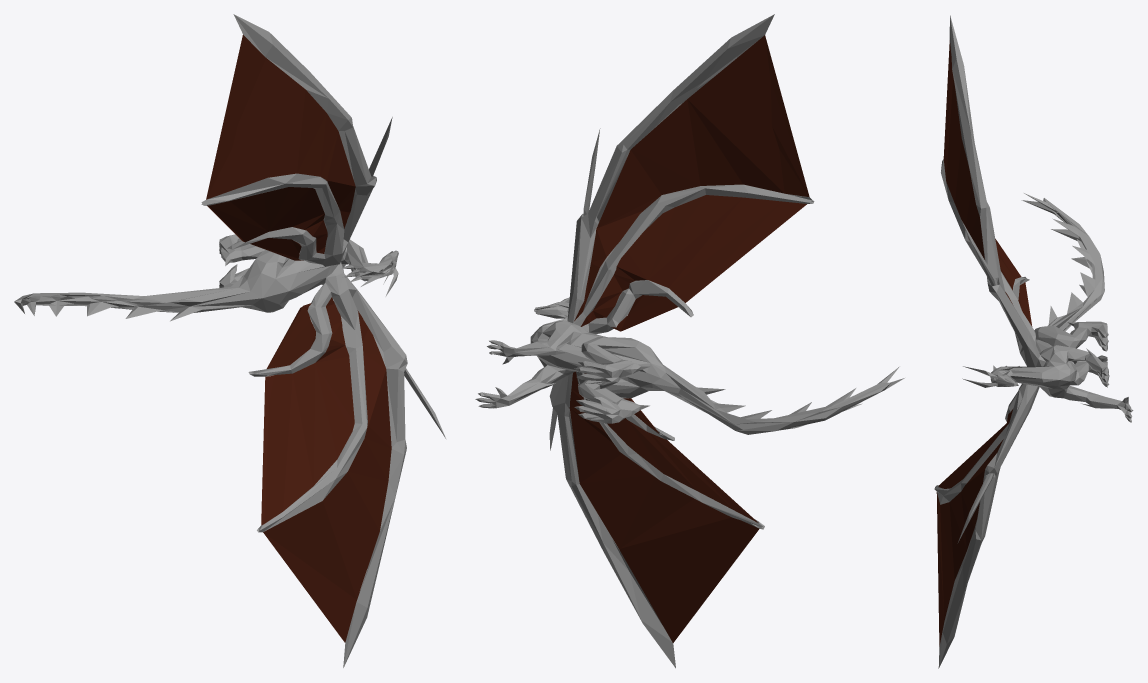
Rendered from Dragon_2.5_For_Animations_000372.obj.
3 views of the same model, side by side, from view 1: azimuth 30°, elevation 25°; view 2: azimuth 150°, elevation 25°; view 3: azimuth 270°, elevation 25° (orthographic). The views are drawn at different scales.
Visible parts, largest first — view 1: Cube_Cube.004; view 2: Cube_Cube.004; view 3: Cube_Cube.004.
Part boxes in pixels (<box>): Cube_Cube.004: <box>14,14,445,667</box>; Cube_Cube.004: <box>475,14,904,668</box>; Cube_Cube.004: <box>934,15,1133,668</box>.
Bounding box in the file's own units: 88.86 × 149 × 44.03.
